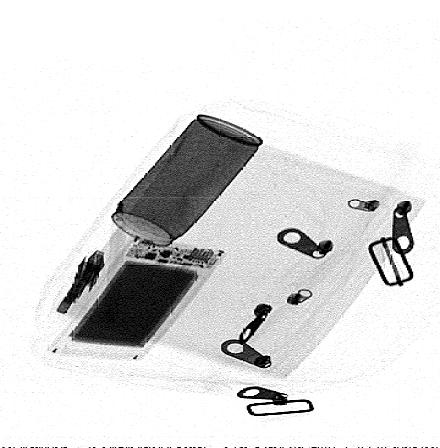Powerbank: (47, 234, 226, 361)
